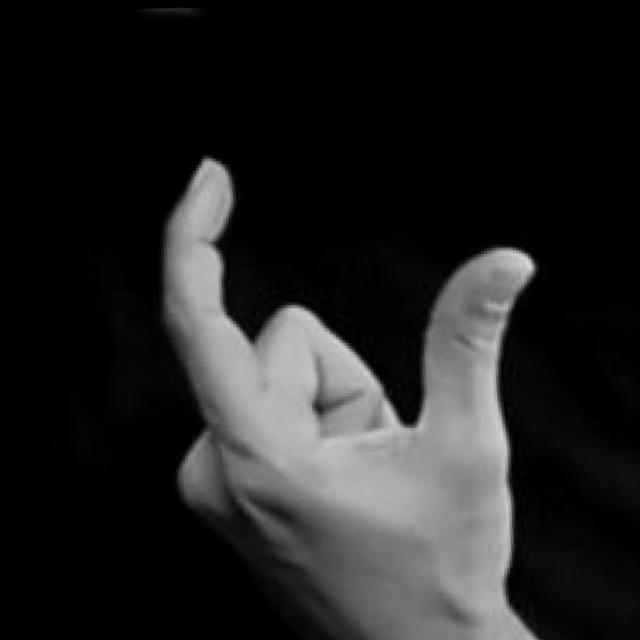U: (147, 136, 570, 640)
